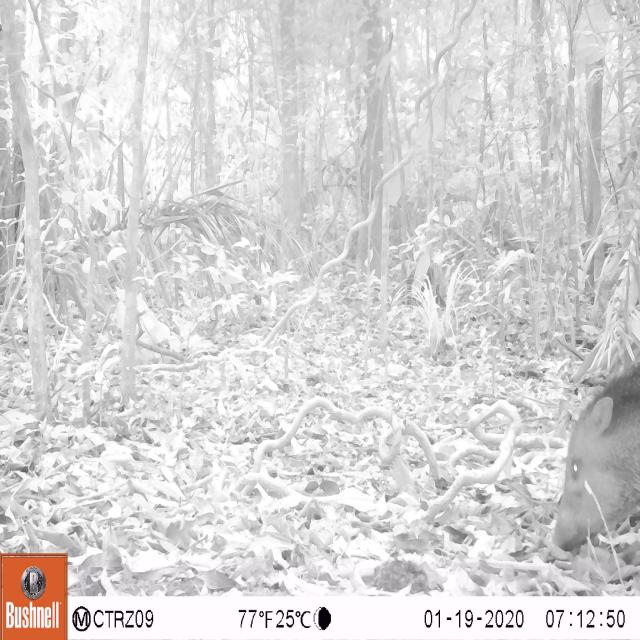White-lipped Peccary: (555, 364, 640, 566)
